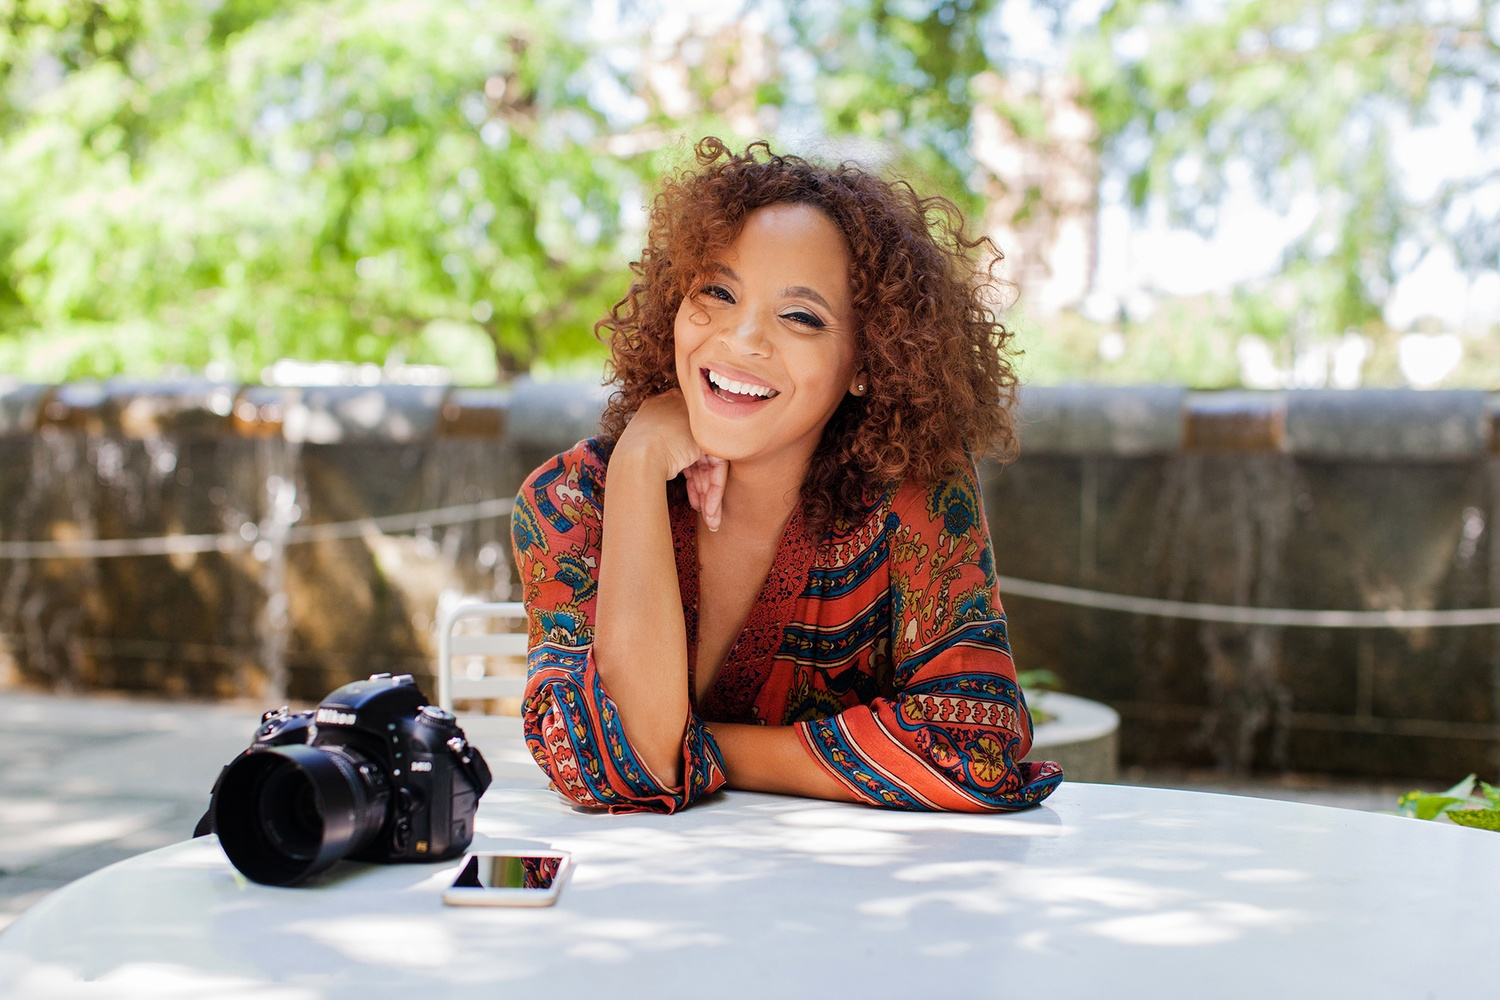mouth: (687, 359, 782, 420)
nose: (712, 327, 775, 360)
